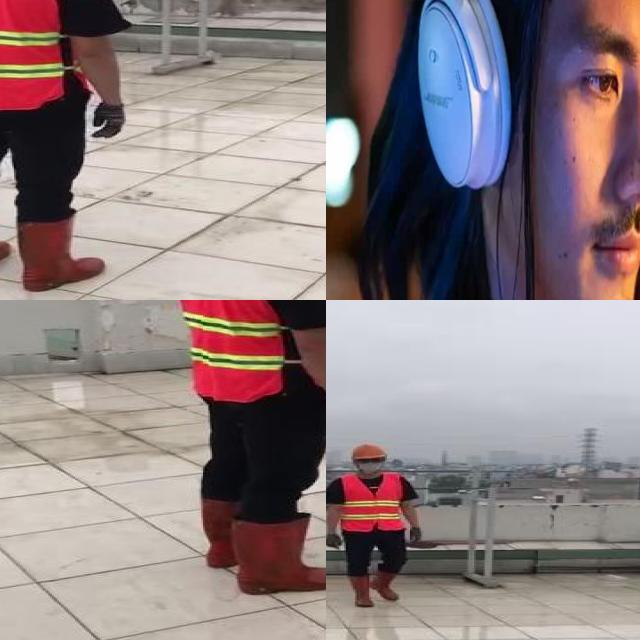Ear-protection: (419, 0, 640, 300)
No_Glasses: (554, 0, 640, 152)
boots: (233, 511, 326, 595), (10, 213, 106, 292), (200, 494, 288, 572), (408, 527, 426, 547), (326, 531, 344, 549)
face_mask: (356, 456, 384, 474)
glasses: (353, 456, 385, 464)
hand_glove: (87, 102, 131, 141), (371, 567, 403, 602), (350, 573, 374, 608)
head_helmet: (351, 441, 387, 459)
person: (162, 300, 326, 599), (0, 0, 144, 295), (326, 439, 428, 609)
vest: (173, 300, 292, 404), (0, 0, 86, 108), (341, 474, 401, 532)
